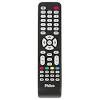remote control: (35, 0, 64, 100)
